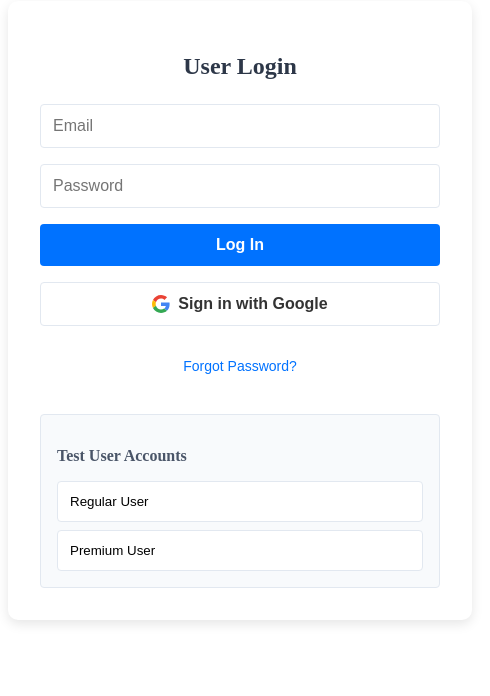
Scenario: Login Component › handles login error
Note: Fill out the form
Type "test@example.com" into the field with test id "email-input".
click(240, 126); type("test@example.com")  # box x1=40 y1=104 x2=440 y2=148
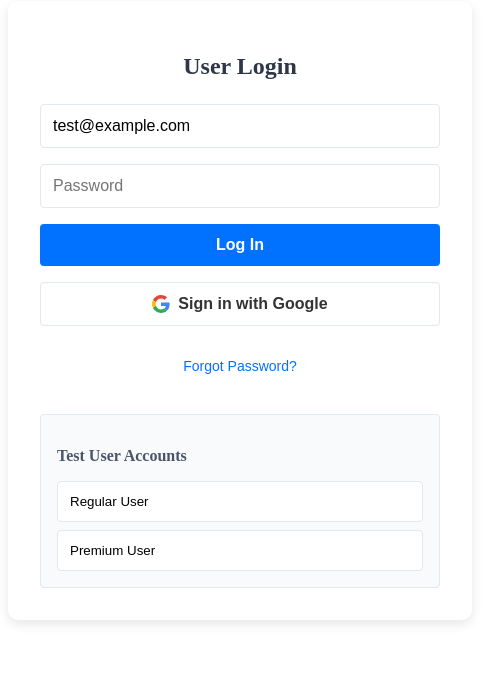
Type "password123" into the password field with test id "password-input".
click(240, 186); type("password123")  # box x1=40 y1=164 x2=440 y2=208
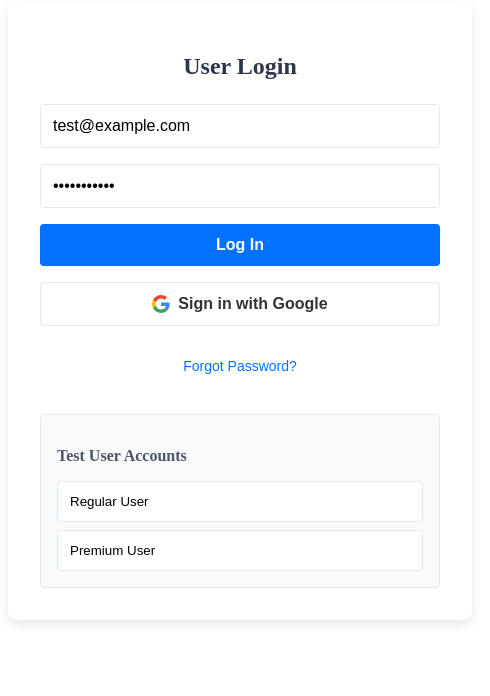
Note: Submit the form
Click the button with test id "login-submit".
click(240, 245)  # box x1=40 y1=224 x2=440 y2=266
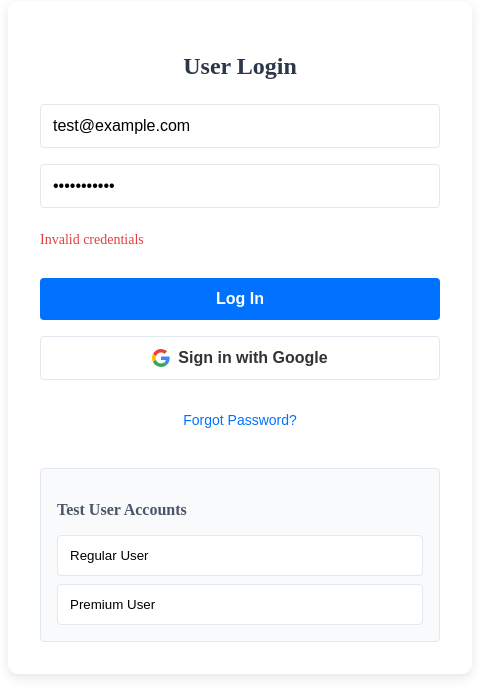
Result: the text "Invalid credentials" is shown at x1=40 y1=232 x2=144 y2=247
